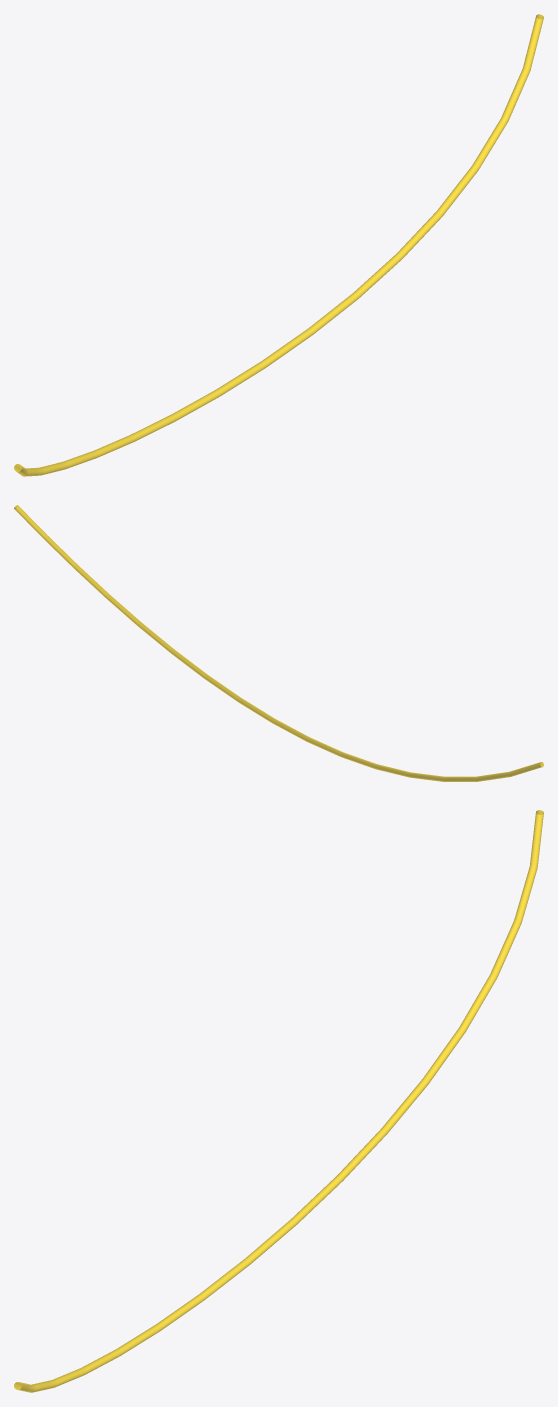
The model's file is Event_100608114_track_22.fbx.
3 renders of one model, top to bottom at view 1: azimuth 90°, elevation 25°; view 2: azimuth 150°, elevation 25°; view 3: azimuth 270°, elevation 25°, orthographic. The views are drawn at different scales.
Parts seen in each view (by area): view 1: Model; view 2: Model; view 3: Model.
Boxes of the visible parts, x1,y1,x2,y2 form: Model: (14, 14, 543, 476); Model: (14, 505, 543, 781); Model: (14, 810, 543, 1392).
Size of the model in its own units: 6.01 by 0.8907 by 2.62.
